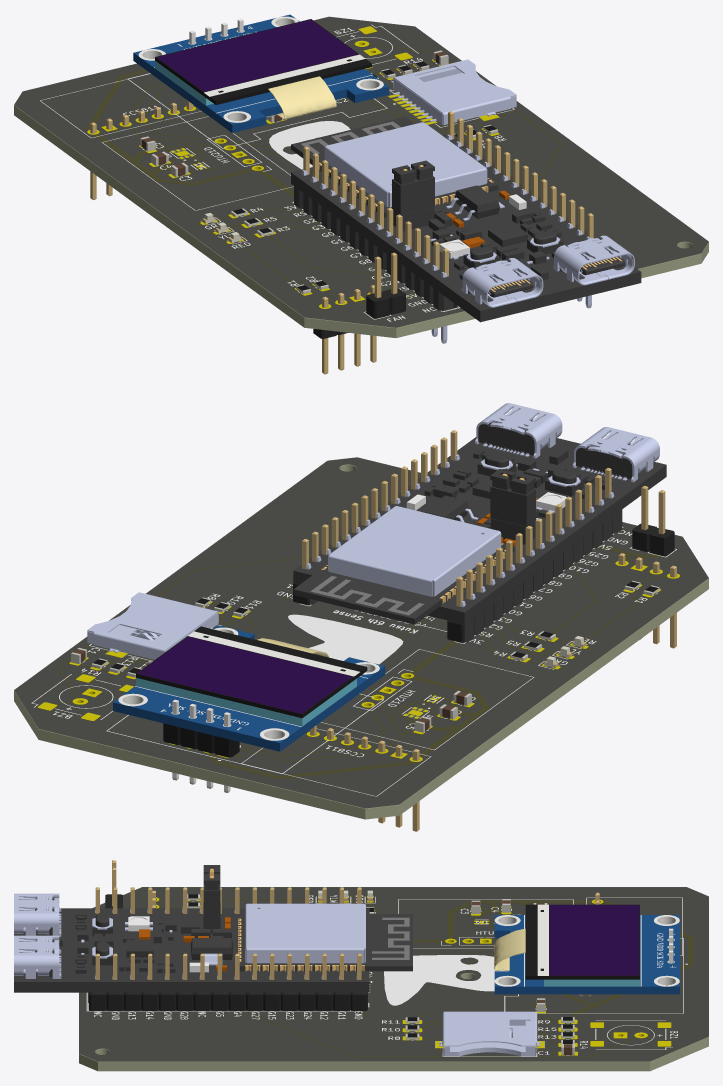
File: kutsu-board-esp32c5-devkitc-test.glb
The picture shows the model from 3 angles, top to bottom: view 1: azimuth 30°, elevation 25°; view 2: azimuth 150°, elevation 25°; view 3: azimuth 270°, elevation 25°; orthographic projection. The views are drawn at different scales.
Visible parts, largest first — view 1: =>[0:1:1:27], =>[0:1:1:29], =>[0:1:1:9], =>0:1:1:19, =>[0:1:1:13] (×2), =>[0:1:1:5], =>[0:1:1:25], =>[0:1:1:24], =>[0:1:1:11], =>[0:1:1:21], =>[0:1:1:23]; view 2: =>[0:1:1:27], =>[0:1:1:29], =>[0:1:1:9], =>0:1:1:19, =>[0:1:1:13] (×2), =>[0:1:1:25], =>[0:1:1:5], =>[0:1:1:24], 4x1 male header pins v2:1, =>[0:1:1:11], =>[0:1:1:23], =>[0:1:1:21]; view 3: =>[0:1:1:27], =>[0:1:1:29], =>[0:1:1:9], =>0:1:1:19, =>[0:1:1:13] (×2), =>[0:1:1:25], =>[0:1:1:5], =>[0:1:1:24], =>[0:1:1:11].
Boxes of the visible parts, bbox=[...] form: =>[0:1:1:27]: bbox=[14, 16, 708, 327]; =>[0:1:1:29]: bbox=[14, 17, 708, 337]; =>[0:1:1:9]: bbox=[291, 116, 641, 343]; =>0:1:1:19: bbox=[133, 14, 388, 132]; =>[0:1:1:13] (×2): bbox=[303, 111, 593, 307]; =>[0:1:1:5]: bbox=[393, 59, 516, 125]; =>[0:1:1:25]: bbox=[40, 24, 514, 321]; =>[0:1:1:24]: bbox=[87, 26, 561, 308]; =>[0:1:1:11]: bbox=[366, 252, 405, 318]; =>[0:1:1:21]: bbox=[313, 285, 376, 374]; =>[0:1:1:23]: bbox=[90, 100, 193, 199]; =>[0:1:1:27]: bbox=[14, 457, 708, 808]; =>[0:1:1:29]: bbox=[14, 458, 708, 819]; =>[0:1:1:9]: bbox=[293, 403, 666, 642]; =>0:1:1:19: bbox=[113, 625, 385, 751]; =>[0:1:1:13] (×2): bbox=[293, 430, 612, 642]; =>[0:1:1:25]: bbox=[31, 526, 676, 796]; =>[0:1:1:5]: bbox=[87, 592, 218, 659]; =>[0:1:1:24]: bbox=[37, 545, 679, 778]; 4x1 male header pins v2:1: bbox=[163, 699, 239, 792]; =>[0:1:1:11]: bbox=[632, 485, 674, 556]; =>[0:1:1:23]: bbox=[310, 725, 419, 831]; =>[0:1:1:21]: bbox=[618, 553, 676, 648]; =>[0:1:1:27]: bbox=[79, 887, 708, 1061]; =>[0:1:1:29]: bbox=[79, 888, 708, 1071]; =>[0:1:1:9]: bbox=[14, 865, 412, 1008]; =>0:1:1:19: bbox=[494, 904, 679, 996]; =>[0:1:1:13] (×2): bbox=[89, 887, 367, 1010]; =>[0:1:1:25]: bbox=[86, 895, 687, 1056]; =>[0:1:1:5]: bbox=[439, 1011, 540, 1056]; =>[0:1:1:24]: bbox=[113, 894, 692, 1056]; =>[0:1:1:11]: bbox=[105, 860, 122, 908].
Bounding box in the file's own units: 0.0602 × 0.0233 × 0.1013.
